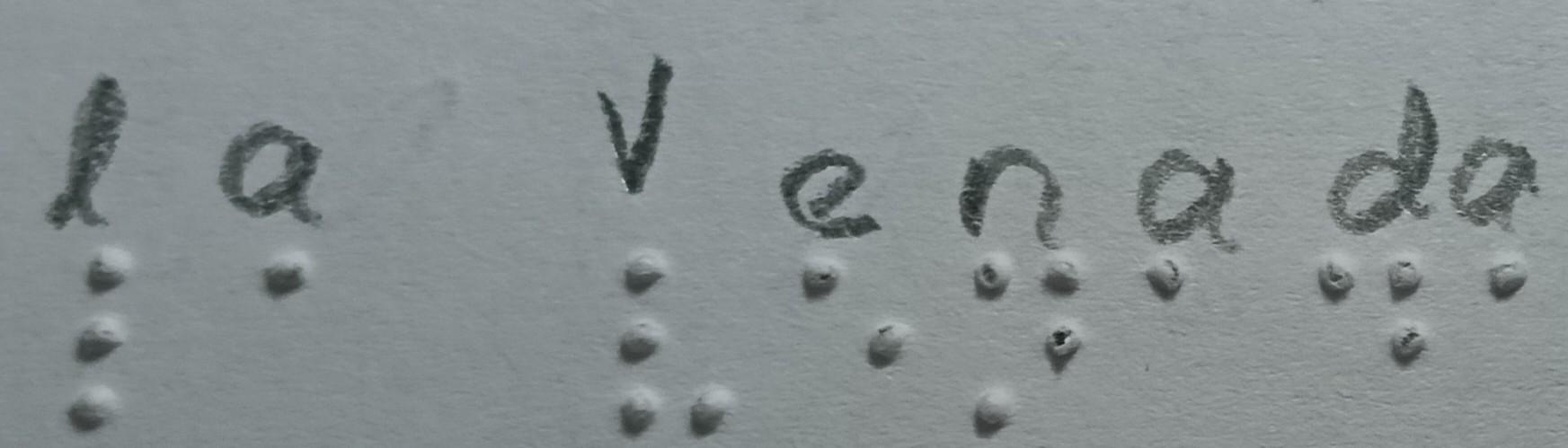a: (199, 235, 359, 312), (1450, 237, 1567, 316), (1129, 233, 1215, 332)
d: (1305, 235, 1448, 377)
e: (775, 241, 922, 375)
l: (43, 233, 199, 442)
n: (936, 237, 1130, 445)
v: (570, 242, 748, 447)
